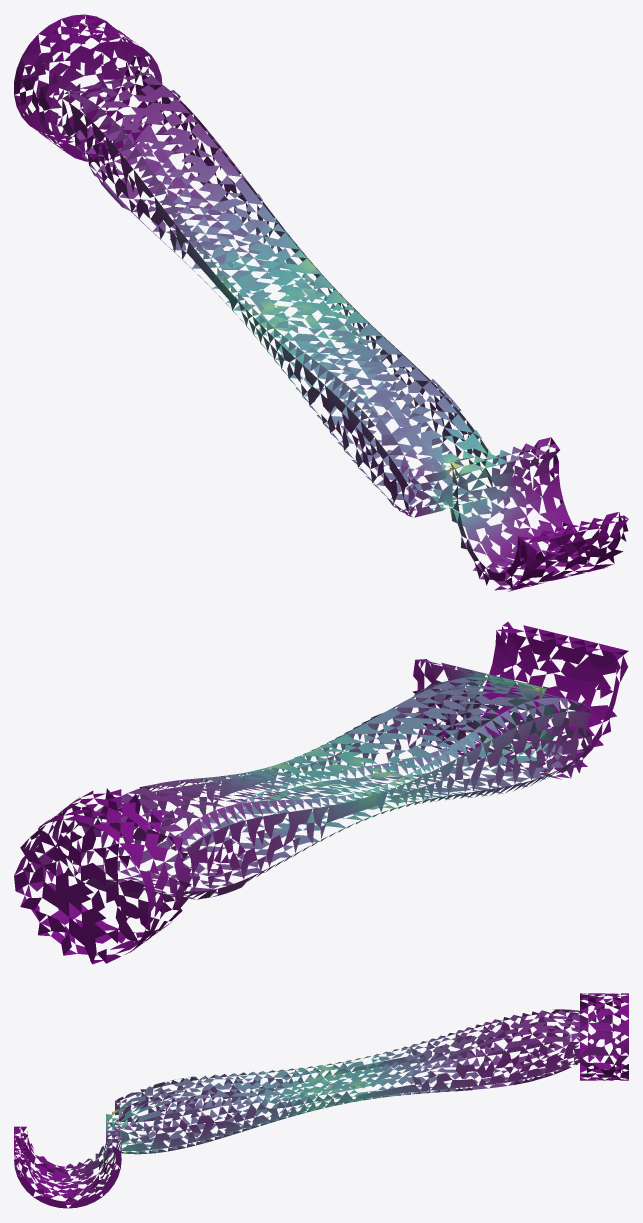
Rendered from leg_hard_landing.glb.
3 views of the same model, one above another, from view 1: azimuth 30°, elevation 25°; view 2: azimuth 150°, elevation 25°; view 3: azimuth 270°, elevation 25° (orthographic). The views are drawn at different scales.
Parts seen in each view (by area): view 1: geometry_0; view 2: geometry_0; view 3: geometry_0.
Part boxes in pixels (x1=…): geometry_0: x1=14, y1=14, x2=628, y2=591; geometry_0: x1=14, y1=622, x2=628, y2=964; geometry_0: x1=14, y1=993, x2=628, y2=1208.
Bounding box in the file's own units: 24.93 × 40.11 × 126.
